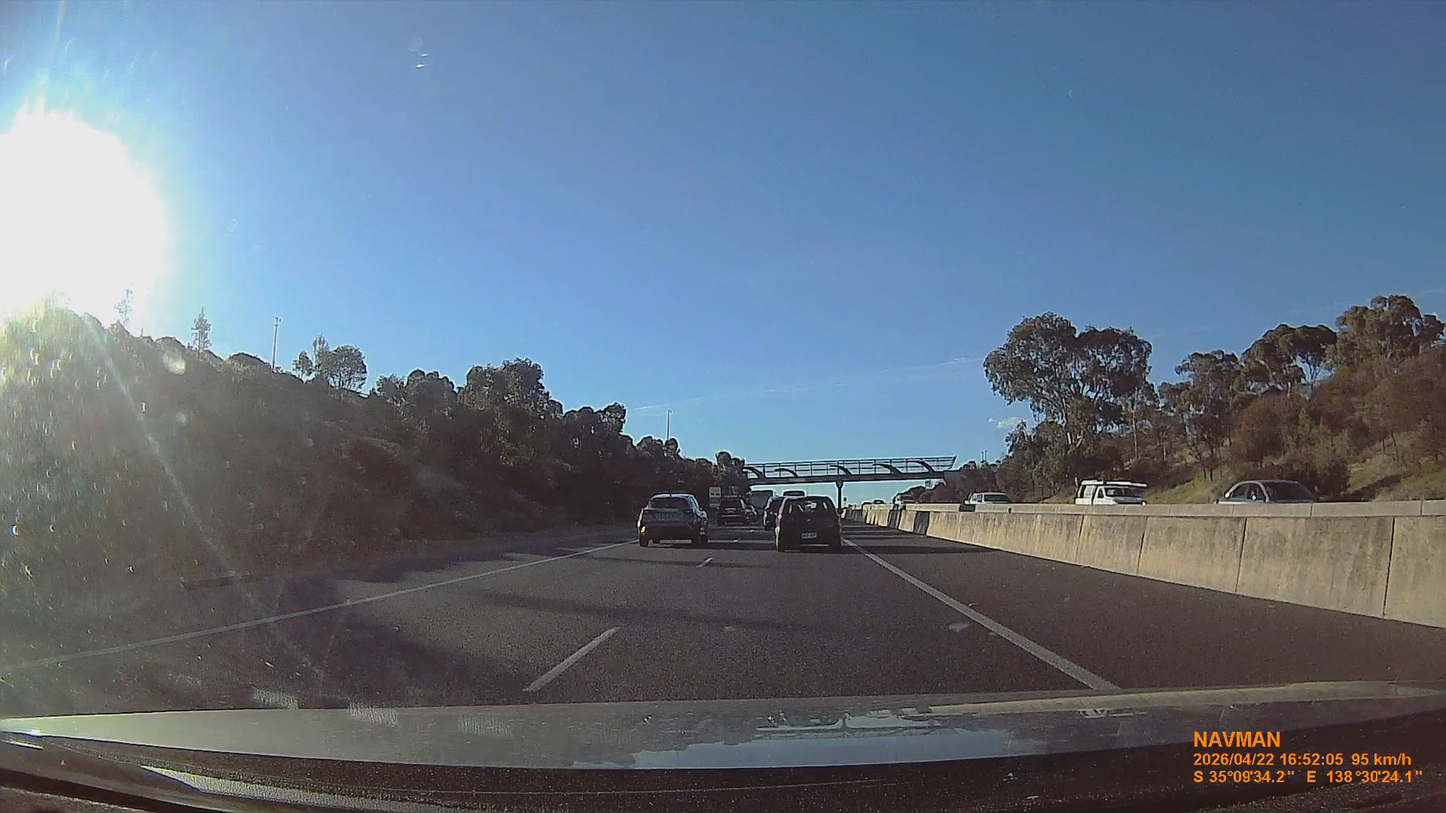road barriers: (898, 501, 1445, 628), (886, 501, 975, 540)
